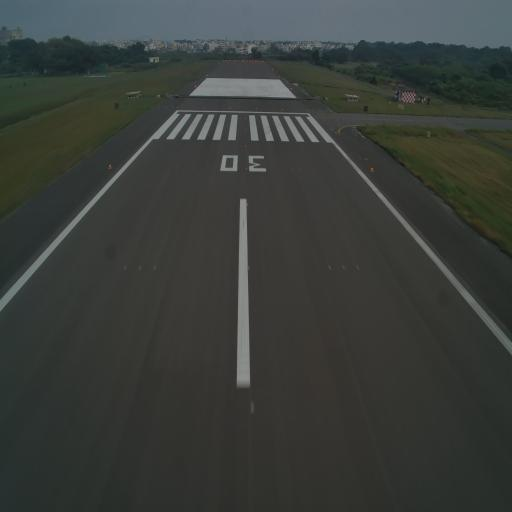off: (354, 262, 360, 272), (341, 262, 346, 272), (123, 263, 127, 273), (152, 263, 157, 271), (327, 264, 332, 272), (138, 263, 142, 272), (192, 165, 195, 171), (307, 166, 310, 172), (175, 166, 178, 170), (291, 167, 294, 171), (299, 167, 301, 172), (184, 166, 186, 170)
on: (246, 264, 251, 273), (244, 166, 248, 174), (108, 162, 112, 169), (370, 167, 374, 174), (245, 202, 249, 207)
